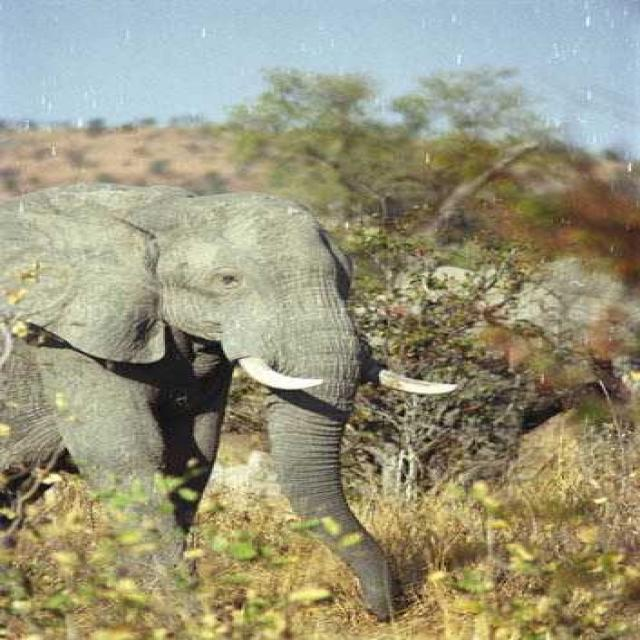Elephant: (0, 180, 457, 622)
